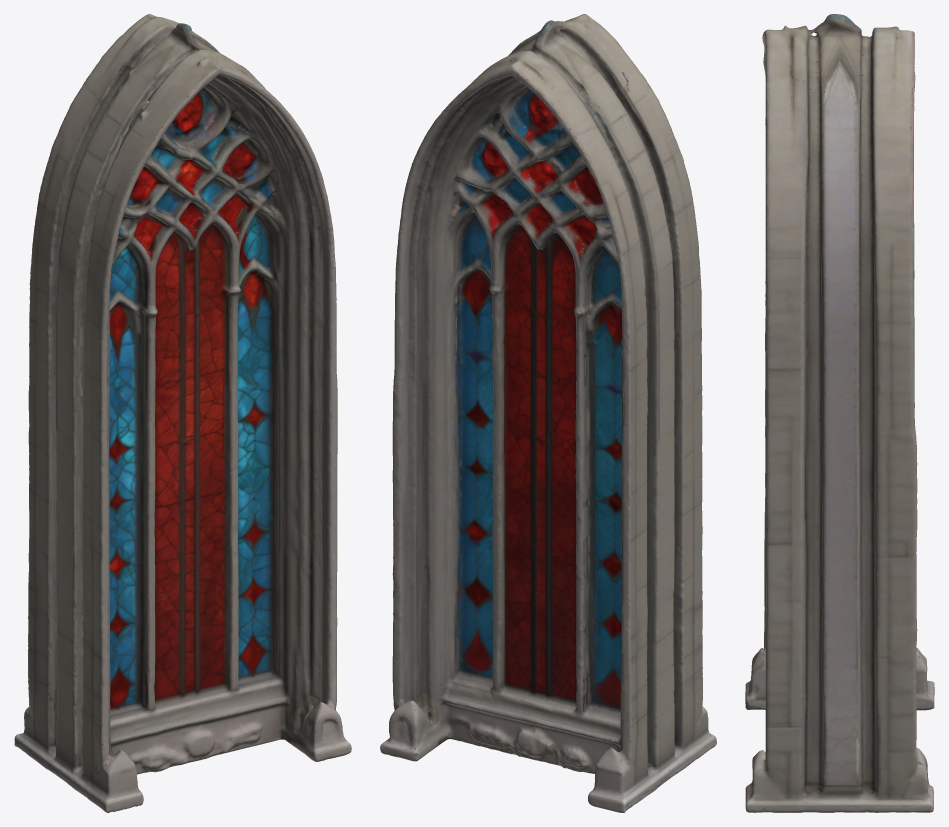
3 renders of one model, left to right at view 1: azimuth 30°, elevation 25°; view 2: azimuth 150°, elevation 25°; view 3: azimuth 270°, elevation 25°, orthographic.
Parts seen in each view (by area): view 1: Mesh_0; view 2: Mesh_0; view 3: Mesh_0.
Part boxes in pixels (bbox=[...]): Mesh_0: bbox=[14, 14, 351, 812]; Mesh_0: bbox=[380, 14, 716, 812]; Mesh_0: bbox=[745, 14, 934, 812].
Size of the model in its own units: 70.87 by 200 by 46.39.
Materials: 1 (1 with a texture image).
